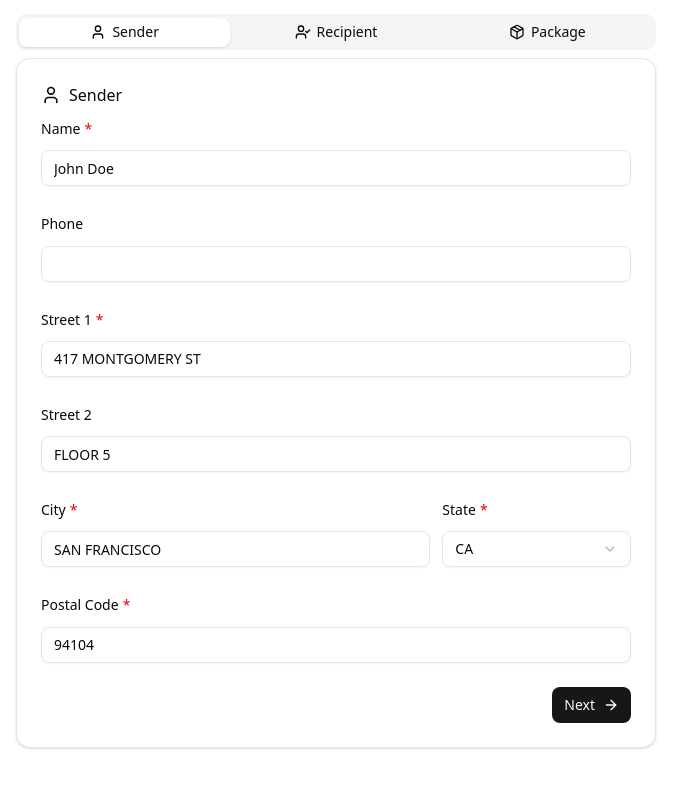
Scenario: Home form flow › blocks first step next button if we have invalid form data
Clear the field labelled "Name *" at (336, 168), box [41,150,631,186]
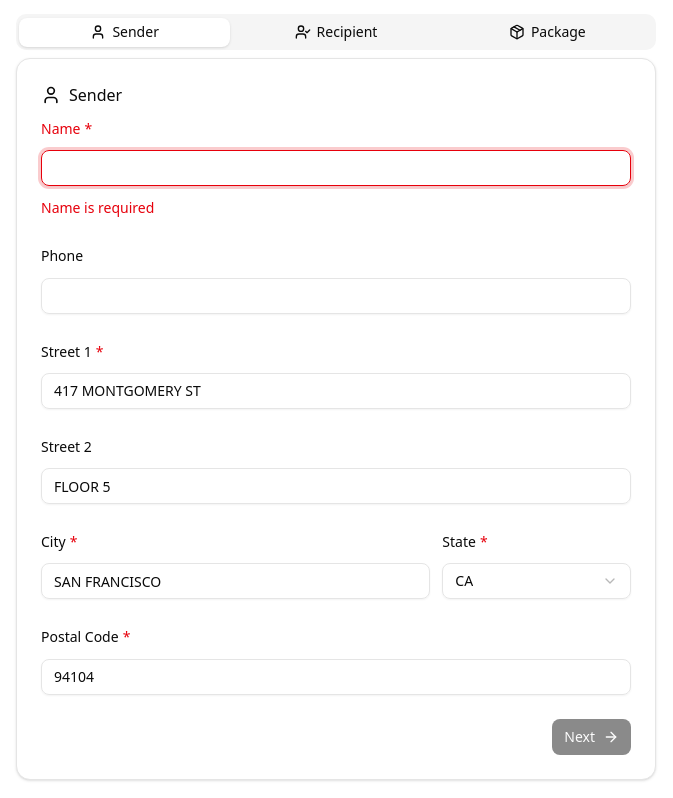
Expected: the button "Next" is disabled, [552,718,631,754]
Expected: the text "Name is required" is shown, [41,198,154,217]
